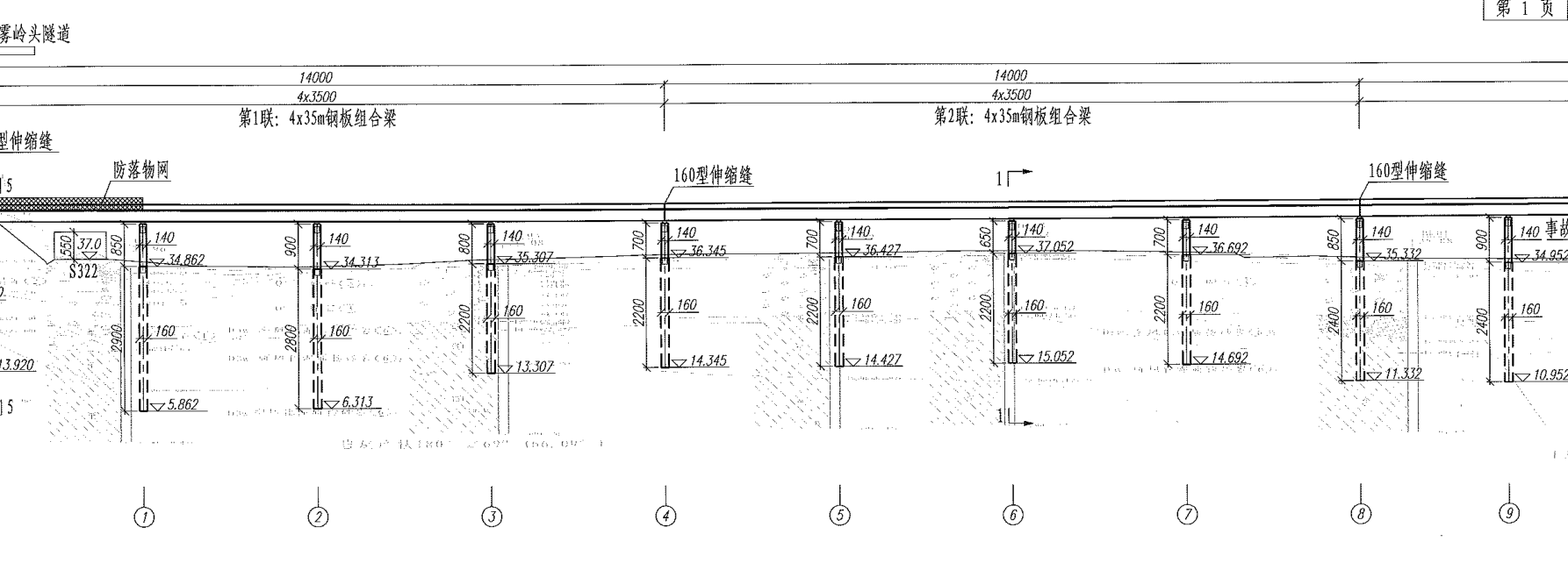B: (659, 65, 1373, 95), (2, 70, 677, 92)
C: (467, 215, 580, 533), (983, 204, 1092, 528), (116, 209, 224, 533), (1335, 203, 1442, 527), (291, 213, 398, 535), (1162, 203, 1266, 529), (815, 210, 918, 528), (644, 209, 744, 530), (1485, 210, 1568, 531)
